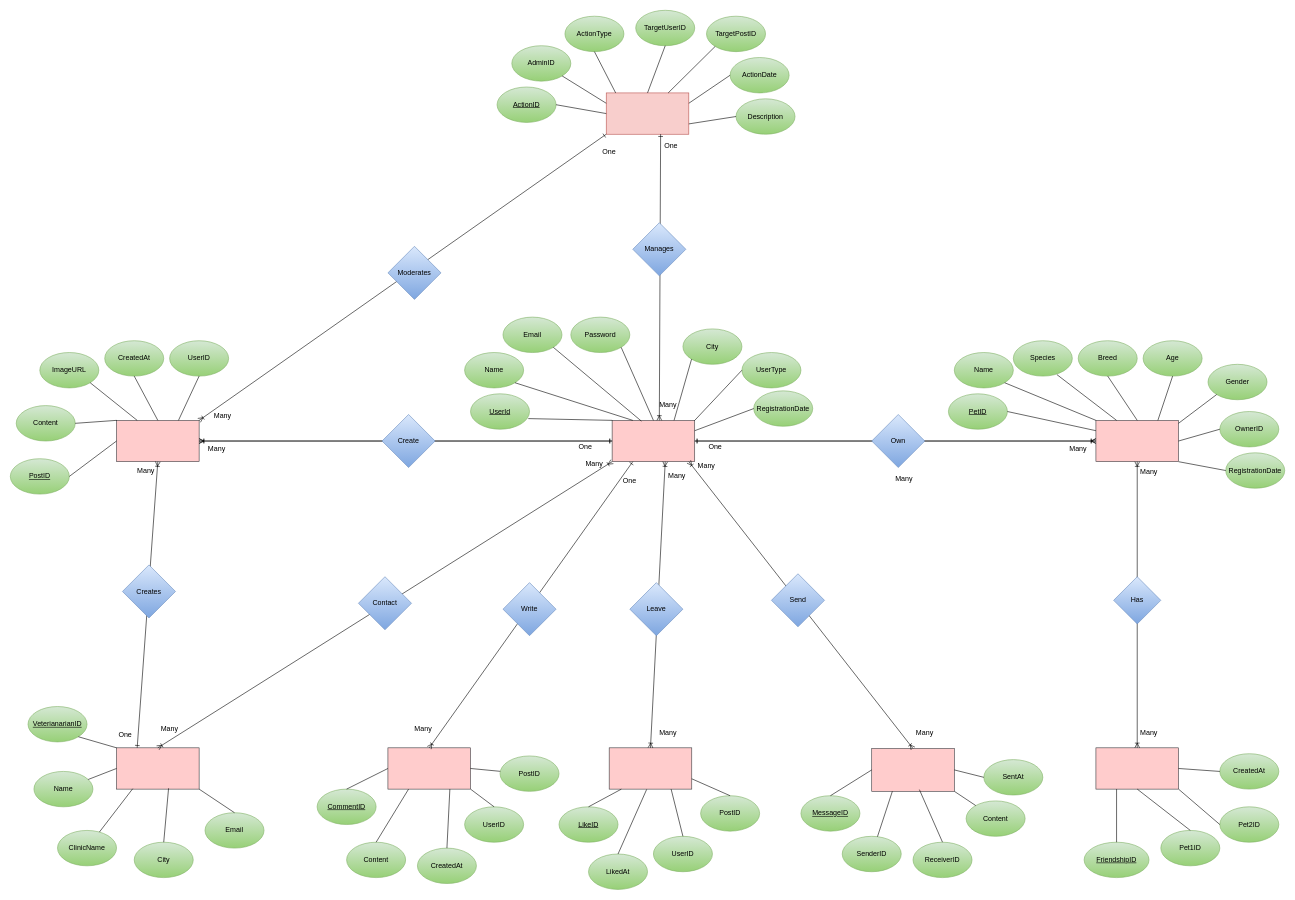
The diagram is 1295 pixels wide and 900 high, and some of its shapes have lost their labels. The shapes that lost their labels are listed below. From the top down, each one's box as (x1, y1, x2, y2) in pixels, then its label:
(606, 92, 689, 134): ADMIN ACTION
(116, 420, 199, 462): POST
(612, 420, 695, 462): USER
(1095, 420, 1179, 462): PET
(116, 747, 199, 789): VETERINARIAN
(387, 747, 471, 789): COMMENT
(609, 747, 692, 789): LIKES
(871, 748, 954, 791): MESSAGE
(1095, 747, 1179, 789): FRIENDSHIP
